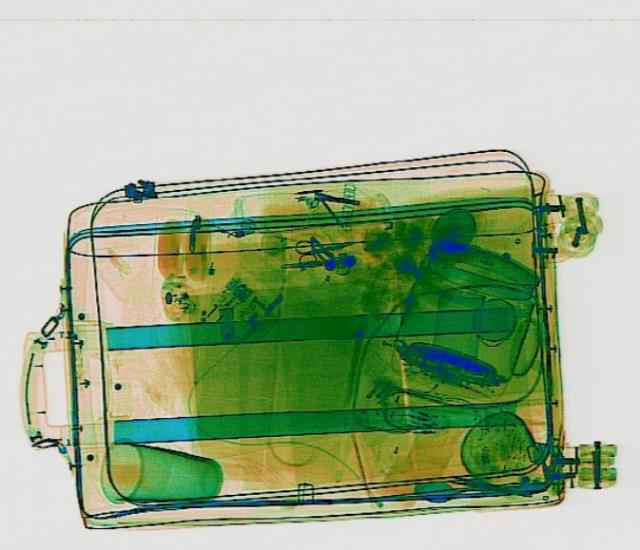Scissors: (292, 228, 362, 267)
